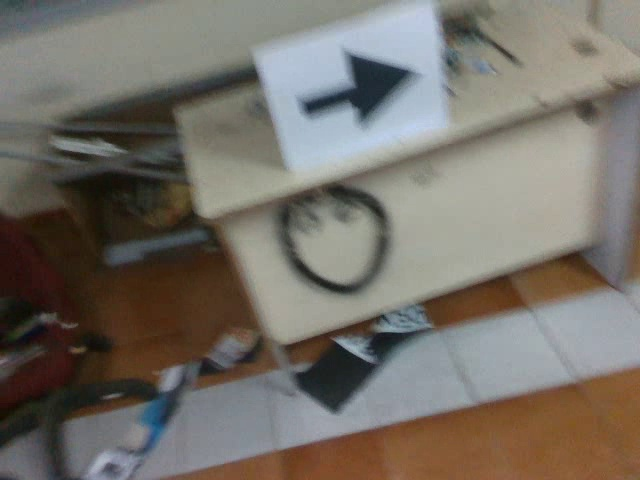Right: (292, 47, 425, 131)
